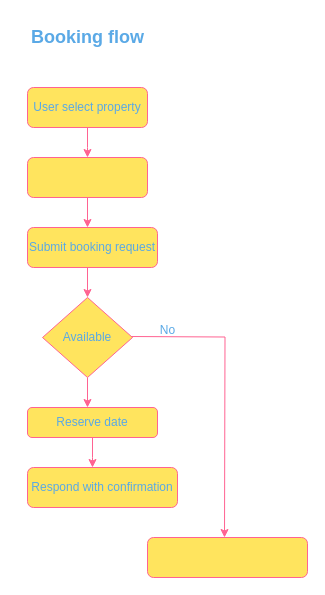
Image size: 325x595. Some labels were removed from this diagram. The centre of each missing label's shape, as x and y in pixels:
Enter booking Details: (87,177)
Return unavailable message: (227,557)
